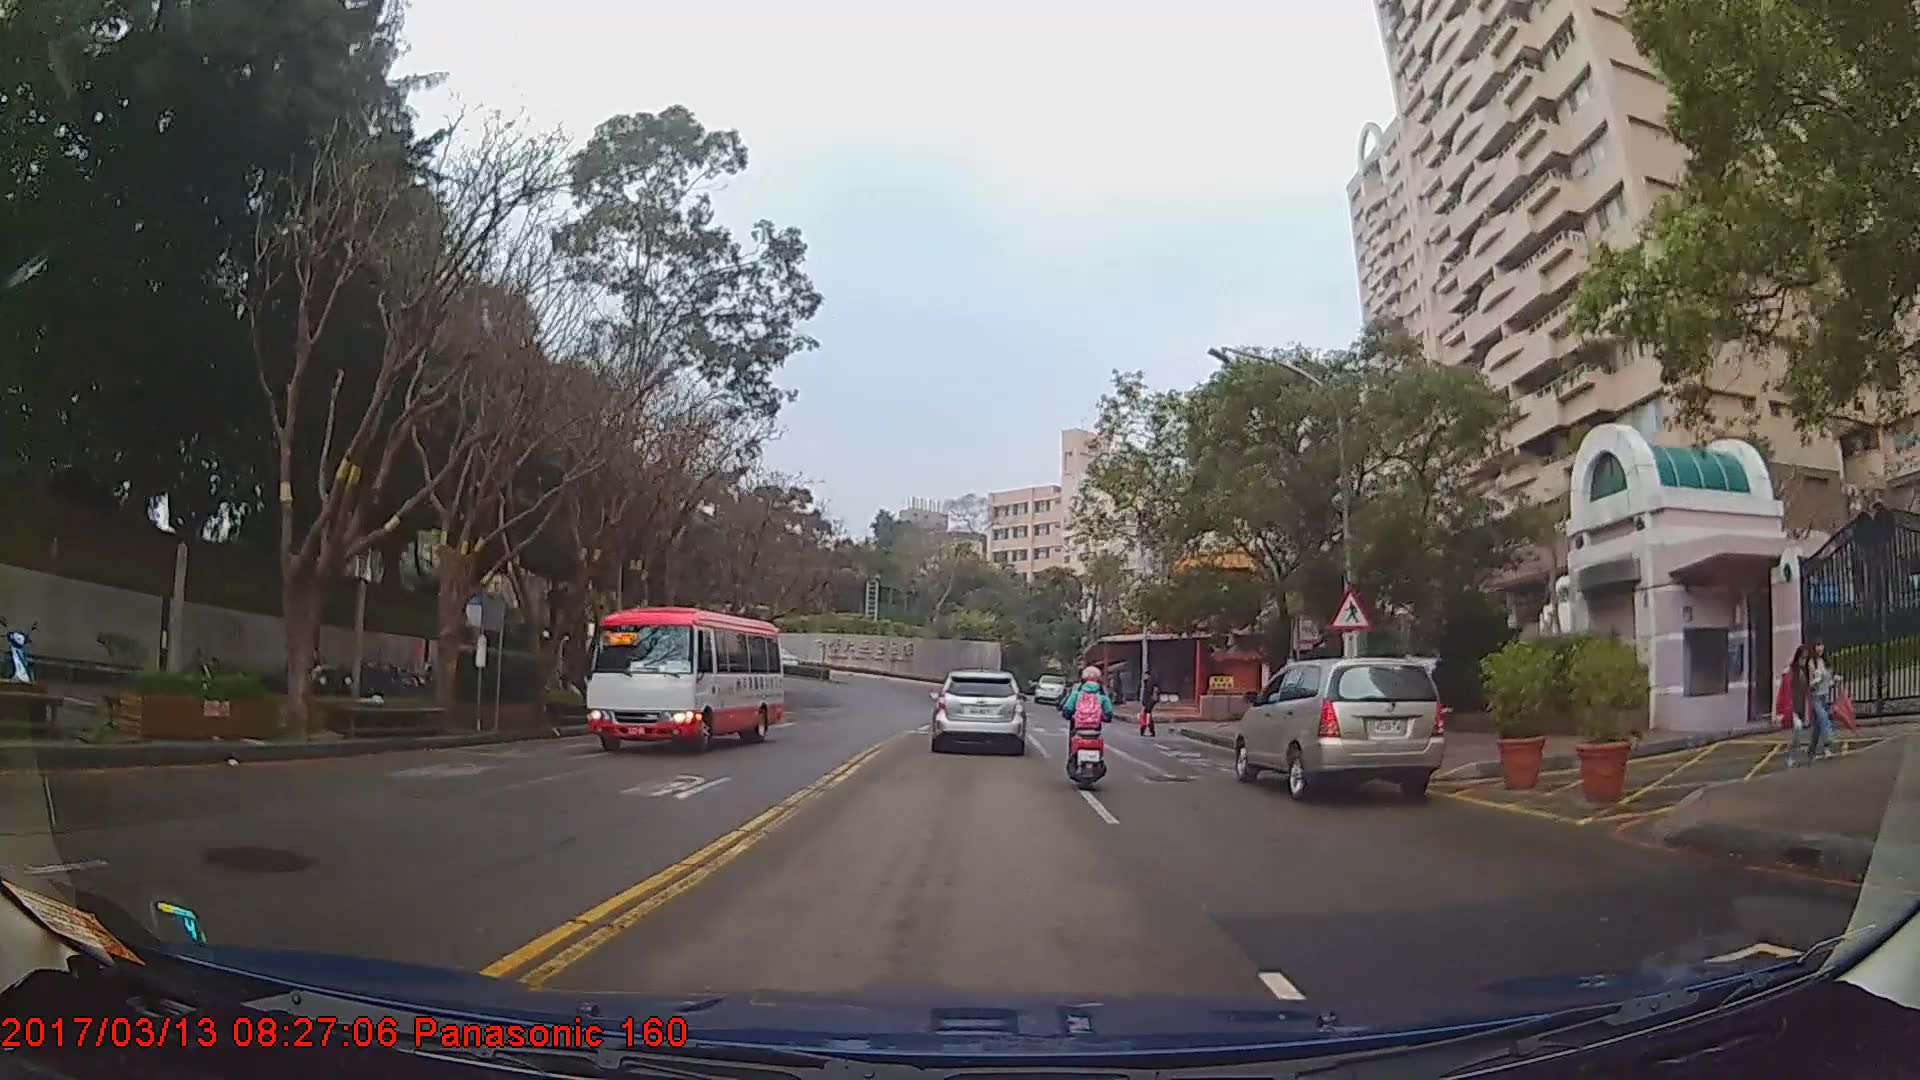pedestrian: (1770, 634, 1821, 784), (1803, 622, 1844, 773), (1137, 669, 1163, 742)
rider: (1062, 664, 1117, 793)
vehicle: (1234, 656, 1445, 802), (581, 605, 783, 753), (929, 667, 1026, 754), (1032, 673, 1066, 702)
